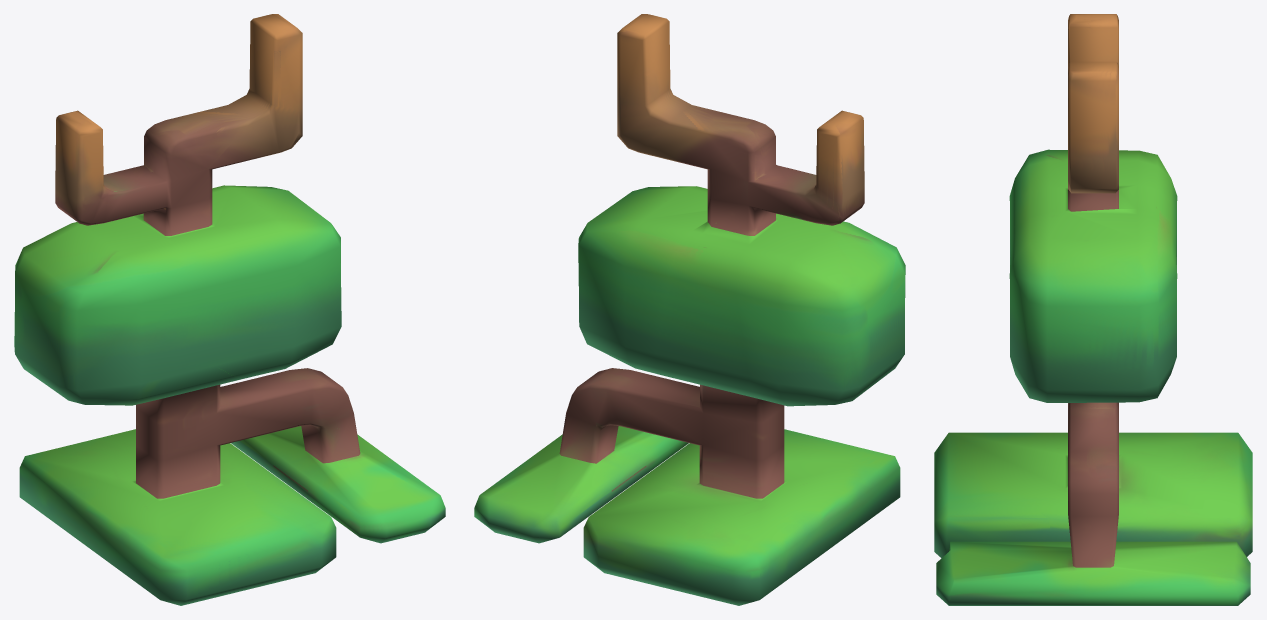
The model's file is SUP_VEG_Bush01.fbx.
The picture shows the model from 3 angles, left to right: view 1: azimuth 30°, elevation 25°; view 2: azimuth 150°, elevation 25°; view 3: azimuth 270°, elevation 25°; orthographic projection. The views are drawn at different scales.
Visible parts, largest first — view 1: Withered bush; view 2: Withered bush; view 3: Withered bush.
Boxes of the visible parts, x1,y1,x2,y2 form: Withered bush: (14, 14, 445, 605); Withered bush: (474, 14, 905, 605); Withered bush: (934, 14, 1252, 605).
Bounding box in the file's own units: 99.22 × 137 × 77.31.
1 material, 1 textured.
